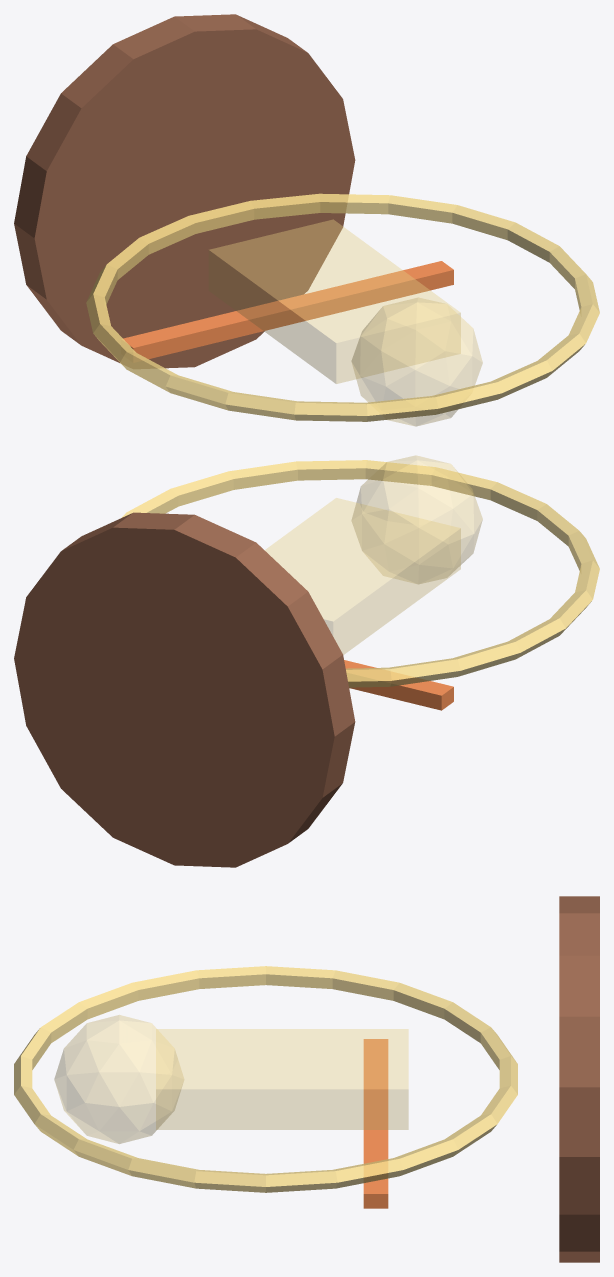
File: 07_support_npc_aura.glb
3 views of the same model, one above another, from view 1: azimuth 30°, elevation 25°; view 2: azimuth 150°, elevation 25°; view 3: azimuth 270°, elevation 25° (orthographic).
Parts seen in each view (by area): view 1: npc_support_base, support_holo_body, ally_command_ring, support_holo_head, assist_beam_marker; view 2: npc_support_base, support_holo_body, ally_command_ring, support_holo_head, assist_beam_marker; view 3: support_holo_body, ally_command_ring, npc_support_base, support_holo_head, assist_beam_marker.
Part boxes in pixels (bbox=[...]): npc_support_base: bbox=[14, 14, 355, 368]; support_holo_body: bbox=[209, 219, 460, 383]; ally_command_ring: bbox=[86, 193, 599, 421]; support_holo_head: bbox=[351, 297, 482, 426]; assist_beam_marker: bbox=[121, 261, 453, 362]; npc_support_base: bbox=[14, 512, 355, 867]; support_holo_body: bbox=[265, 498, 460, 654]; ally_command_ring: bbox=[121, 460, 599, 687]; support_holo_head: bbox=[352, 455, 482, 583]; assist_beam_marker: bbox=[344, 660, 453, 710]; support_holo_body: bbox=[156, 1029, 408, 1129]; ally_command_ring: bbox=[14, 966, 517, 1192]; npc_support_base: bbox=[559, 896, 599, 1262]; support_holo_head: bbox=[54, 1015, 183, 1143]; assist_beam_marker: bbox=[363, 1039, 388, 1208].
Bounding box in the file's own units: 1.25 × 0.9 × 1.44.
